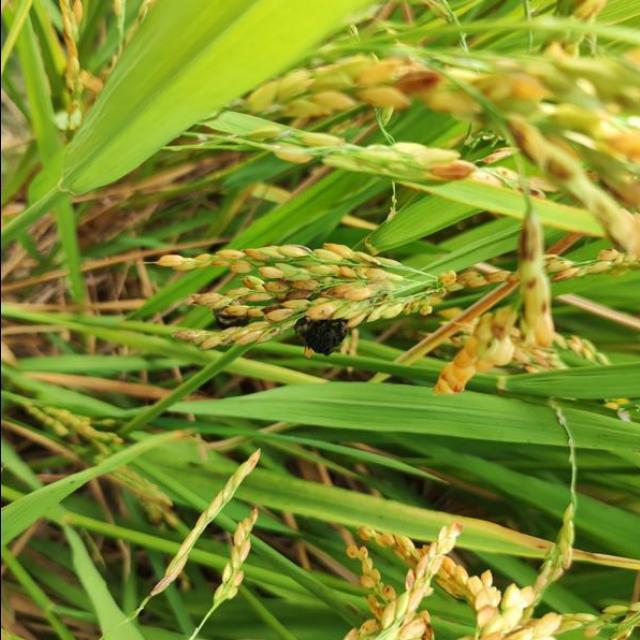Leaf_Scald: (292, 312, 350, 358), (213, 304, 251, 329)
